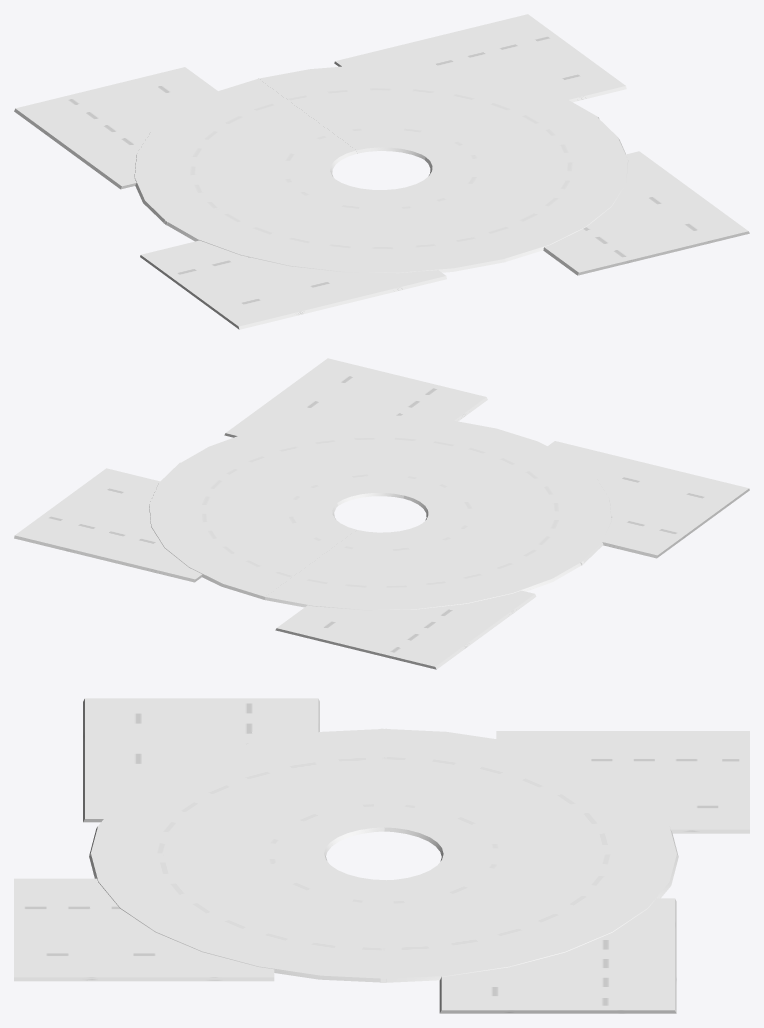
The model's file is Roundabout2.FBX.
3 renders of one model, top to bottom at view 1: azimuth 30°, elevation 25°; view 2: azimuth 150°, elevation 25°; view 3: azimuth 270°, elevation 25°, orthographic. The views are drawn at different scales.
Visible parts, largest first — view 1: bibeko-50-bocht-klein003, bibeko-50-bocht-klein001, bibeko-50-bocht-klein, bibeko-50-bocht-klein002, bibeko-50-recht002, bibeko-50-recht, bibeko-50-recht003, bibeko-50-recht001; view 2: bibeko-50-bocht-klein, bibeko-50-bocht-klein001, bibeko-50-bocht-klein003, bibeko-50-bocht-klein002, bibeko-50-recht002, bibeko-50-recht003, bibeko-50-recht001, bibeko-50-recht; view 3: bibeko-50-bocht-klein001, bibeko-50-bocht-klein002, bibeko-50-bocht-klein003, bibeko-50-bocht-klein, bibeko-50-recht, bibeko-50-recht002, bibeko-50-recht001, bibeko-50-recht003.
Boxes of the visible parts, x1=… form: bibeko-50-bocht-klein003: x1=163, y1=179, x2=505, y2=273; bibeko-50-bocht-klein001: x1=259, y1=64, x2=599, y2=159; bibeko-50-bocht-klein: x1=134, y1=78, x2=356, y2=225; bibeko-50-bocht-klein002: x1=406, y1=117, x2=628, y2=261; bibeko-50-recht002: x1=140, y1=240, x2=446, y2=329; bibeko-50-recht: x1=543, y1=151, x2=749, y2=275; bibeko-50-recht003: x1=14, y1=67, x2=217, y2=189; bibeko-50-recht001: x1=334, y1=14, x2=626, y2=102; bibeko-50-bocht-klein: x1=264, y1=524, x2=584, y2=610; bibeko-50-bocht-klein001: x1=149, y1=462, x2=356, y2=599; bibeko-50-bocht-klein003: x1=403, y1=428, x2=611, y2=565; bibeko-50-bocht-klein002: x1=181, y1=415, x2=495, y2=505; bibeko-50-recht002: x1=548, y1=441, x2=749, y2=558; bibeko-50-recht003: x1=275, y1=590, x2=536, y2=669; bibeko-50-recht001: x1=14, y1=468, x2=202, y2=582; bibeko-50-recht: x1=224, y1=358, x2=487, y2=437; bibeko-50-bocht-klein001: x1=380, y1=854, x2=678, y2=982; bibeko-50-bocht-klein002: x1=89, y1=853, x2=386, y2=982; bibeko-50-bocht-klein003: x1=89, y1=728, x2=386, y2=856; bibeko-50-bocht-klein: x1=380, y1=728, x2=678, y2=856; bibeko-50-recht: x1=14, y1=878, x2=274, y2=981; bibeko-50-recht002: x1=83, y1=698, x2=319, y2=822; bibeko-50-recht001: x1=439, y1=898, x2=676, y2=1013; bibeko-50-recht003: x1=496, y1=731, x2=749, y2=833.
Bounding box in the file's own units: 2056 × 11.45 × 2050.
